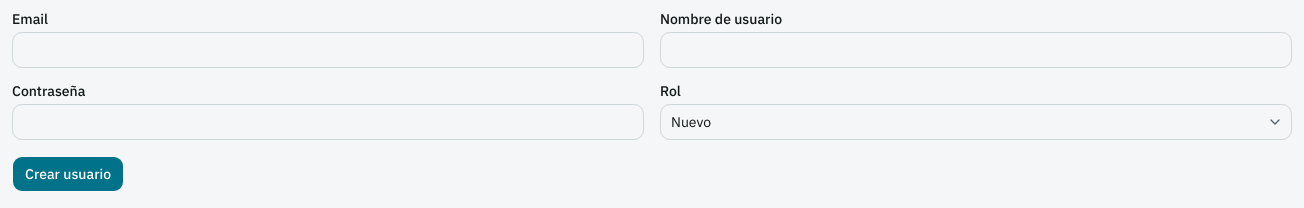
Test: CreateUserForm › un admin no ve la opción superadmin
The width and height of the screenshot is (1304, 208).
What coordinates should you click on to do the following:
click the dropdown named "Rol"
I would click on:
 (691, 122)
Its box is 660,104 -> 1292,140.
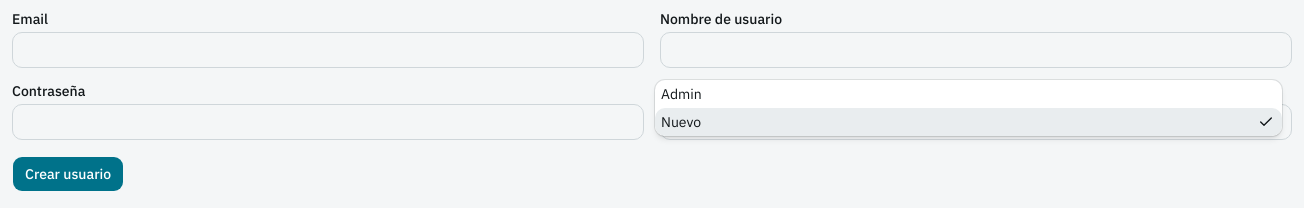
Expected: the option "Admin" is shown, 661,85 -> 702,103
